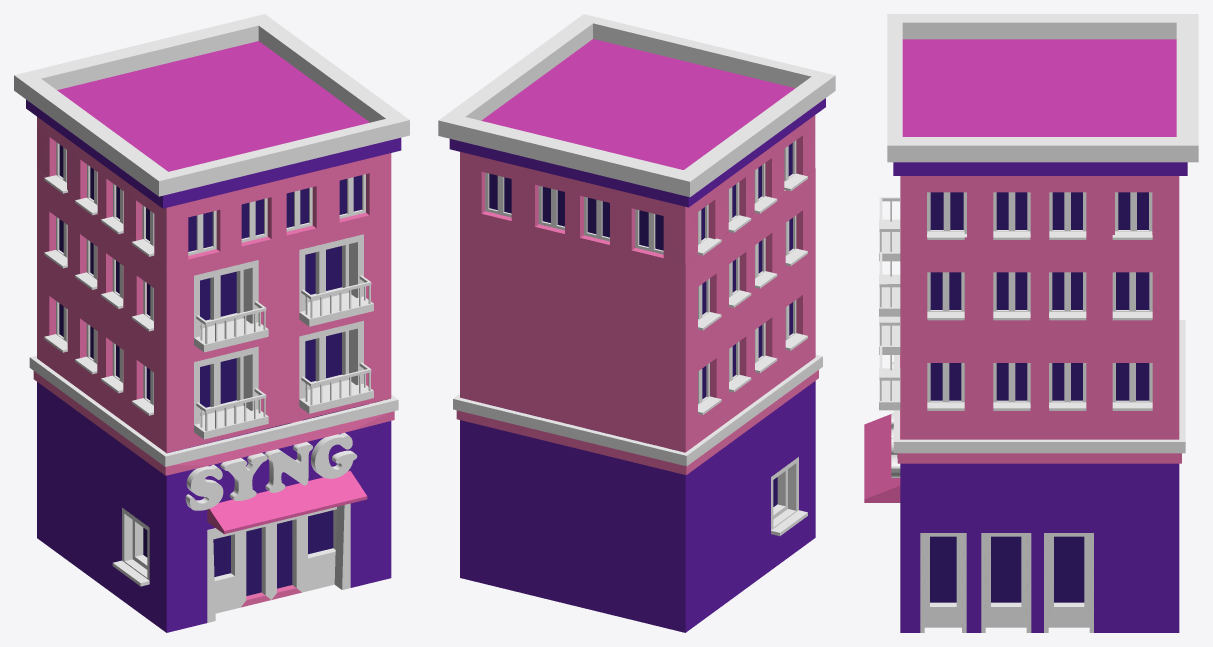
File: house.glb
3 renders of one model, left to right at view 1: azimuth 30°, elevation 25°; view 2: azimuth 150°, elevation 25°; view 3: azimuth 270°, elevation 25°, orthographic. The views are drawn at different scales.
Parts seen in each view (by area): view 1: Object017, Object016, Object018, Object019.001, Object019, SYNG, Object020; view 2: Object016, Object018, Object017, Object019.001, Object019; view 3: Object016, Object017, Object018, Object019.001, Object019, Object020.
Part boxes in pixels (bbox=[...]): Object017: bbox=[14, 14, 409, 622]; Object016: bbox=[33, 117, 394, 607]; Object018: bbox=[26, 99, 401, 632]; Object019.001: bbox=[57, 41, 369, 171]; Object019: bbox=[59, 144, 361, 595]; SYNG: bbox=[185, 432, 357, 510]; Object020: bbox=[207, 471, 367, 534]; Object016: bbox=[456, 115, 818, 475]; Object018: bbox=[449, 98, 825, 632]; Object017: bbox=[438, 14, 835, 536]; Object019.001: bbox=[481, 39, 794, 169]; Object019: bbox=[489, 143, 792, 506]; Object016: bbox=[897, 176, 1181, 463]; Object017: bbox=[879, 14, 1198, 632]; Object018: bbox=[893, 162, 1187, 632]; Object019.001: bbox=[902, 39, 1176, 136]; Object019: bbox=[930, 192, 1149, 602]; Object020: bbox=[864, 414, 900, 502].
Size of the model in its own units: 4.4 by 7.71 by 4.73.
